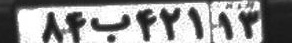character: (87, 8, 132, 43), (133, 6, 159, 43), (158, 4, 184, 41), (38, 8, 65, 43), (238, 7, 263, 43), (184, 4, 206, 43), (62, 8, 86, 43), (216, 8, 236, 43)
